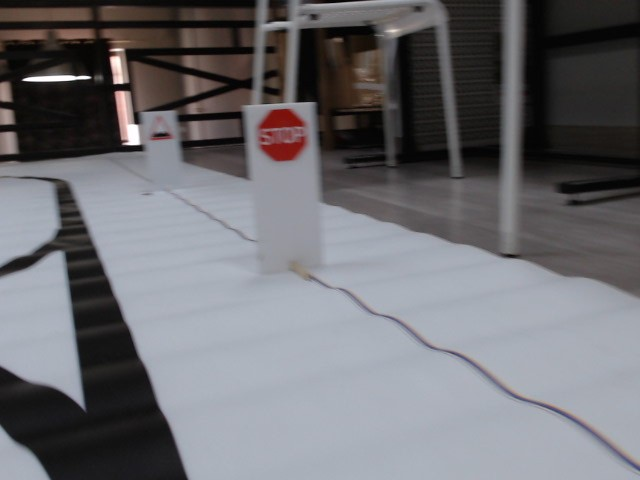Nerov: (148, 114, 176, 142)
Stop: (257, 109, 306, 162)
